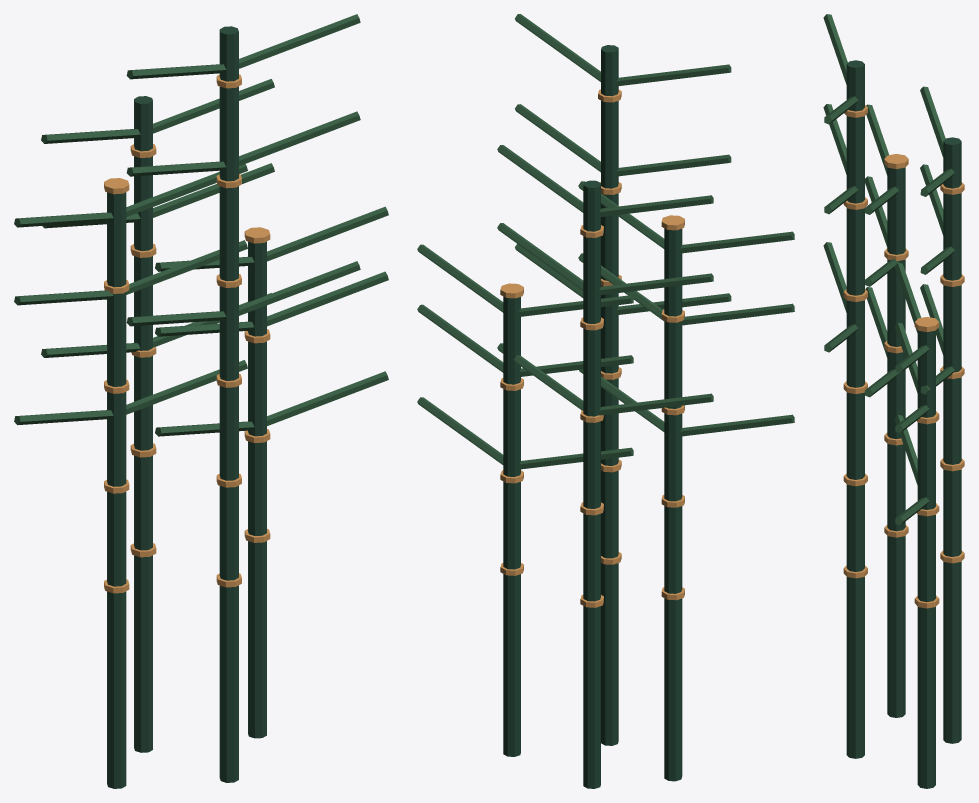
File: moonfall_bamboo_cluster.obj
The picture shows the model from 3 angles, left to right: view 1: azimuth 30°, elevation 25°; view 2: azimuth 150°, elevation 25°; view 3: azimuth 270°, elevation 25°; orthographic projection. The views are drawn at different scales.
Parts seen in each view (by area): view 1: moonfall_bamboo_cluster_12, moonfall_bamboo_cluster_00, moonfall_bamboo_cluster_36, moonfall_bamboo_cluster_25, moonfall_bamboo_cluster_33, moonfall_bamboo_cluster_31, moonfall_bamboo_cluster_35, moonfall_bamboo_cluster_24, moonfall_bamboo_cluster_20, moonfall_bamboo_cluster_22, moonfall_bamboo_cluster_47, moonfall_bamboo_cluster_07 (+13 smaller); view 2: moonfall_bamboo_cluster_12, moonfall_bamboo_cluster_36, moonfall_bamboo_cluster_00, moonfall_bamboo_cluster_25, moonfall_bamboo_cluster_10, moonfall_bamboo_cluster_23, moonfall_bamboo_cluster_44, moonfall_bamboo_cluster_46, moonfall_bamboo_cluster_06, moonfall_bamboo_cluster_21, moonfall_bamboo_cluster_42, moonfall_bamboo_cluster_08 (+13 smaller); view 3: moonfall_bamboo_cluster_12, moonfall_bamboo_cluster_36, moonfall_bamboo_cluster_00, moonfall_bamboo_cluster_25, moonfall_bamboo_cluster_46, moonfall_bamboo_cluster_23, moonfall_bamboo_cluster_34, moonfall_bamboo_cluster_19, moonfall_bamboo_cluster_10, moonfall_bamboo_cluster_06, moonfall_bamboo_cluster_42, moonfall_bamboo_cluster_44 (+17 smaller).
Boxes of the visible parts, x1=… form: moonfall_bamboo_cluster_12: x1=219, y1=26, x2=238, y2=782; moonfall_bamboo_cluster_00: x1=107, y1=192, x2=126, y2=788; moonfall_bamboo_cluster_36: x1=134, y1=96, x2=152, y2=752; moonfall_bamboo_cluster_25: x1=248, y1=241, x2=266, y2=738; moonfall_bamboo_cluster_33: x1=267, y1=271, x2=388, y2=326; moonfall_bamboo_cluster_31: x1=267, y1=371, x2=388, y2=425; moonfall_bamboo_cluster_35: x1=267, y1=206, x2=388, y2=261; moonfall_bamboo_cluster_24: x1=239, y1=14, x2=360, y2=68; moonfall_bamboo_cluster_20: x1=239, y1=261, x2=360, y2=315; moonfall_bamboo_cluster_22: x1=239, y1=111, x2=360, y2=165; moonfall_bamboo_cluster_47: x1=153, y1=79, x2=274, y2=133; moonfall_bamboo_cluster_07: x1=126, y1=360, x2=247, y2=414; moonfall_bamboo_cluster_12: x1=601, y1=45, x2=618, y2=745; moonfall_bamboo_cluster_36: x1=583, y1=180, x2=600, y2=788; moonfall_bamboo_cluster_00: x1=664, y1=228, x2=682, y2=781; moonfall_bamboo_cluster_25: x1=503, y1=296, x2=520, y2=756; moonfall_bamboo_cluster_10: x1=679, y1=231, x2=794, y2=253; moonfall_bamboo_cluster_23: x1=616, y1=64, x2=731, y2=86; moonfall_bamboo_cluster_44: x1=598, y1=273, x2=713, y2=295; moonfall_bamboo_cluster_46: x1=598, y1=195, x2=713, y2=217; moonfall_bamboo_cluster_06: x1=679, y1=414, x2=794, y2=436; moonfall_bamboo_cluster_21: x1=616, y1=154, x2=731, y2=176; moonfall_bamboo_cluster_42: x1=598, y1=393, x2=713, y2=415; moonfall_bamboo_cluster_08: x1=679, y1=303, x2=794, y2=325; moonfall_bamboo_cluster_12: x1=846, y1=60, x2=864, y2=758; moonfall_bamboo_cluster_36: x1=943, y1=137, x2=961, y2=743; moonfall_bamboo_cluster_00: x1=887, y1=167, x2=905, y2=717; moonfall_bamboo_cluster_25: x1=917, y1=330, x2=935, y2=788; moonfall_bamboo_cluster_46: x1=920, y1=86, x2=945, y2=157; moonfall_bamboo_cluster_23: x1=823, y1=14, x2=847, y2=84; moonfall_bamboo_cluster_34: x1=894, y1=263, x2=921, y2=332; moonfall_bamboo_cluster_19: x1=823, y1=242, x2=846, y2=312; moonfall_bamboo_cluster_10: x1=866, y1=104, x2=888, y2=175; moonfall_bamboo_cluster_06: x1=865, y1=287, x2=887, y2=357; moonfall_bamboo_cluster_42: x1=920, y1=284, x2=943, y2=354; moonfall_bamboo_cluster_44: x1=920, y1=164, x2=943, y2=235.
Size of the model in its own units: 8.16 by 15 by 2.78.
